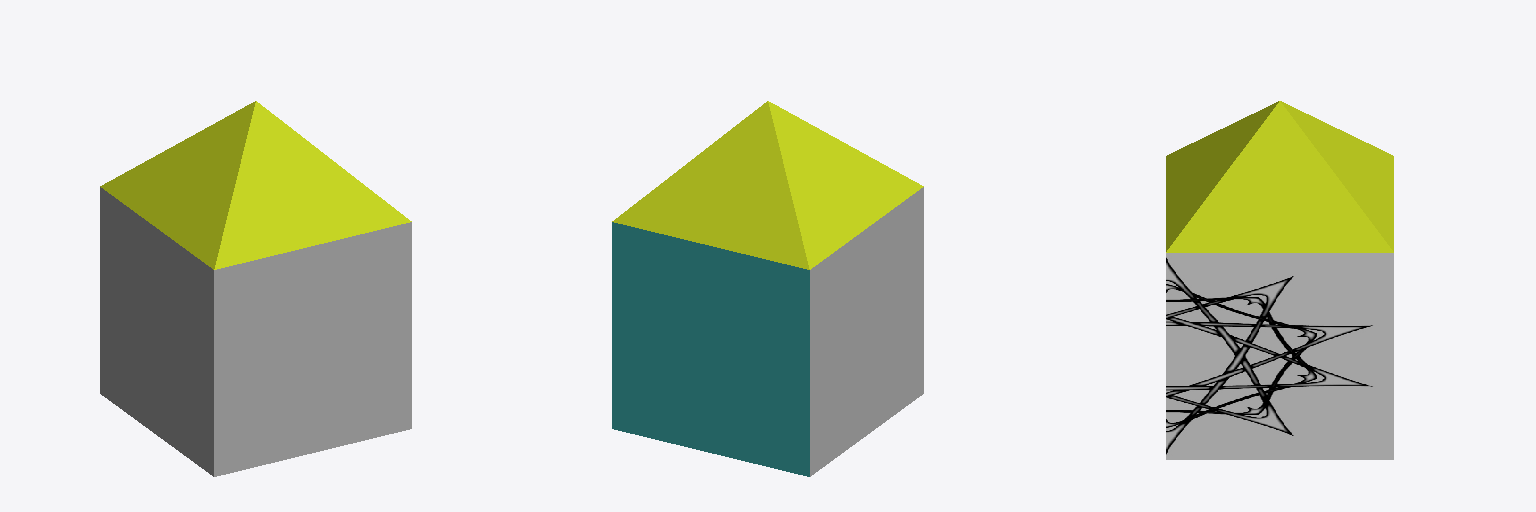
The picture shows the model from 3 angles: view 1: azimuth 30°, elevation 25°; view 2: azimuth 150°, elevation 25°; view 3: azimuth 270°, elevation 25°; orthographic projection.
Visible parts, largest first — view 1: testobj.obj; view 2: testobj.obj; view 3: testobj.obj.
Boxes of the visible parts, x1,y1,x2,y2 form: testobj.obj: [100, 101, 411, 476]; testobj.obj: [612, 101, 923, 476]; testobj.obj: [1166, 101, 1393, 459].
Size of the model in its own units: 1 by 1.5 by 1.
Materials: 6 (1 with a texture image).